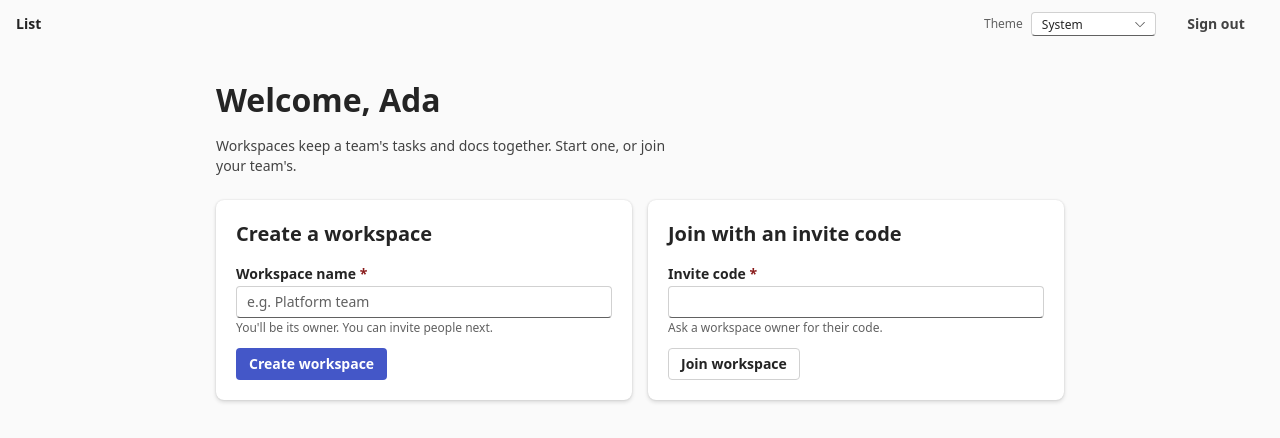
Test case: onboarding › validates in the worker, then creates the workspace and lands home
Expected: the heading "Welcome, Ada" is shown, top-left (216, 78), bottom-right (441, 121)
Click the button "Create workspace" at (312, 364), box top-left (236, 348), bottom-right (387, 380)
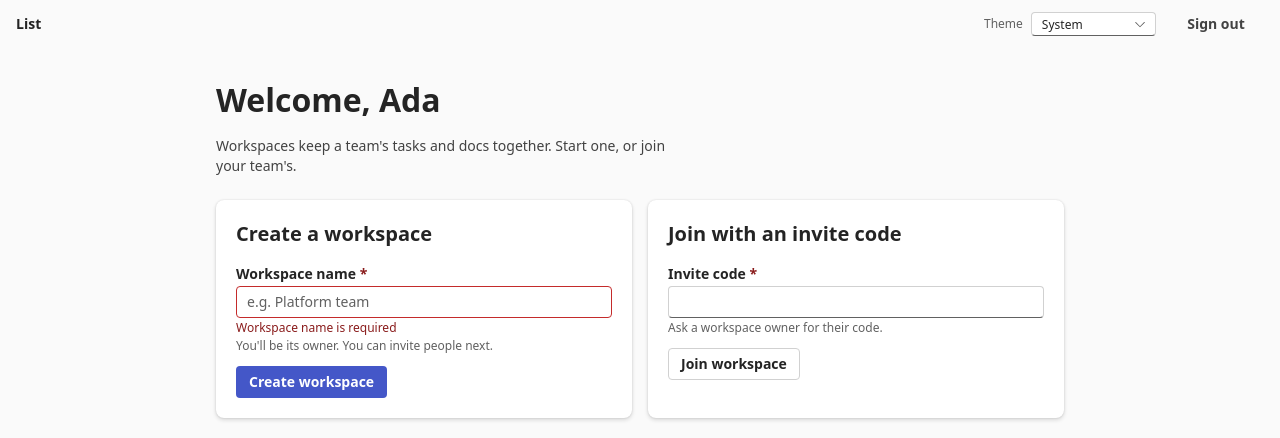
Expected: the text "Workspace name is required" is shown, top-left (236, 319), bottom-right (396, 336)
Type "Acme" into the field labelled "Workspace name *" at (424, 302), box top-left (236, 286), bottom-right (612, 318)
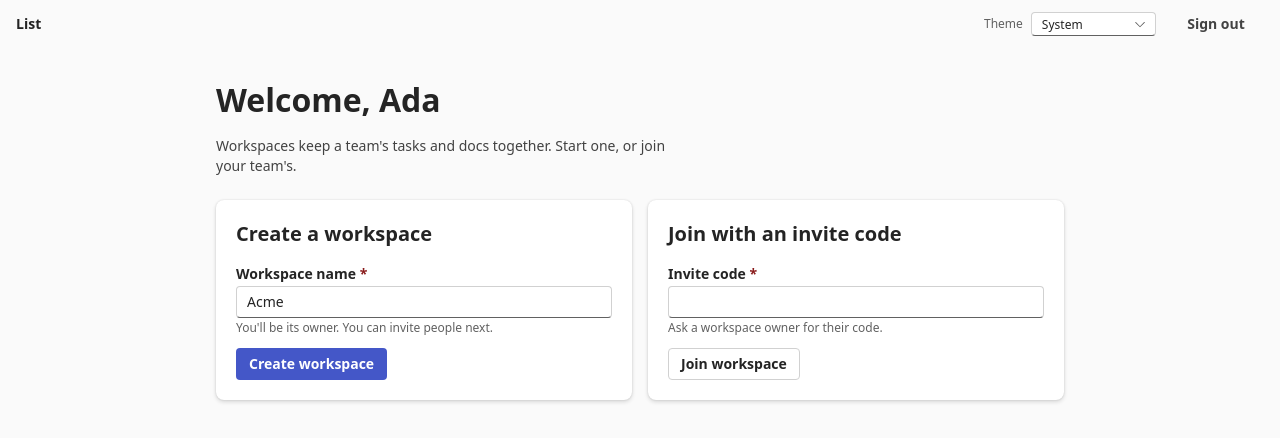
Click the button "Create workspace" at (312, 364), box top-left (236, 348), bottom-right (387, 380)
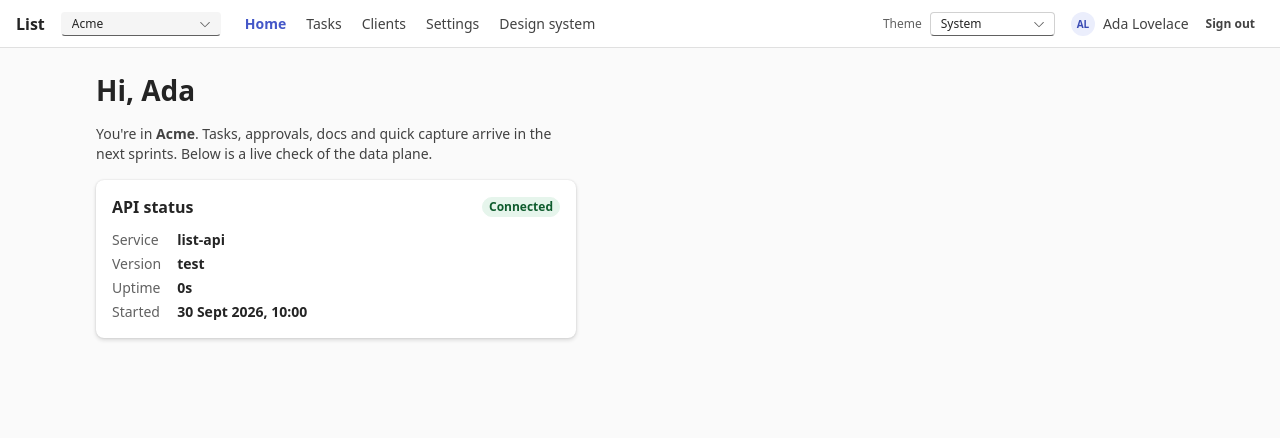
Expected: the heading "Hi, Ada" is shown, top-left (96, 71), bottom-right (195, 109)
Expected: the text "Acme" is shown, top-left (156, 124), bottom-right (195, 143)
